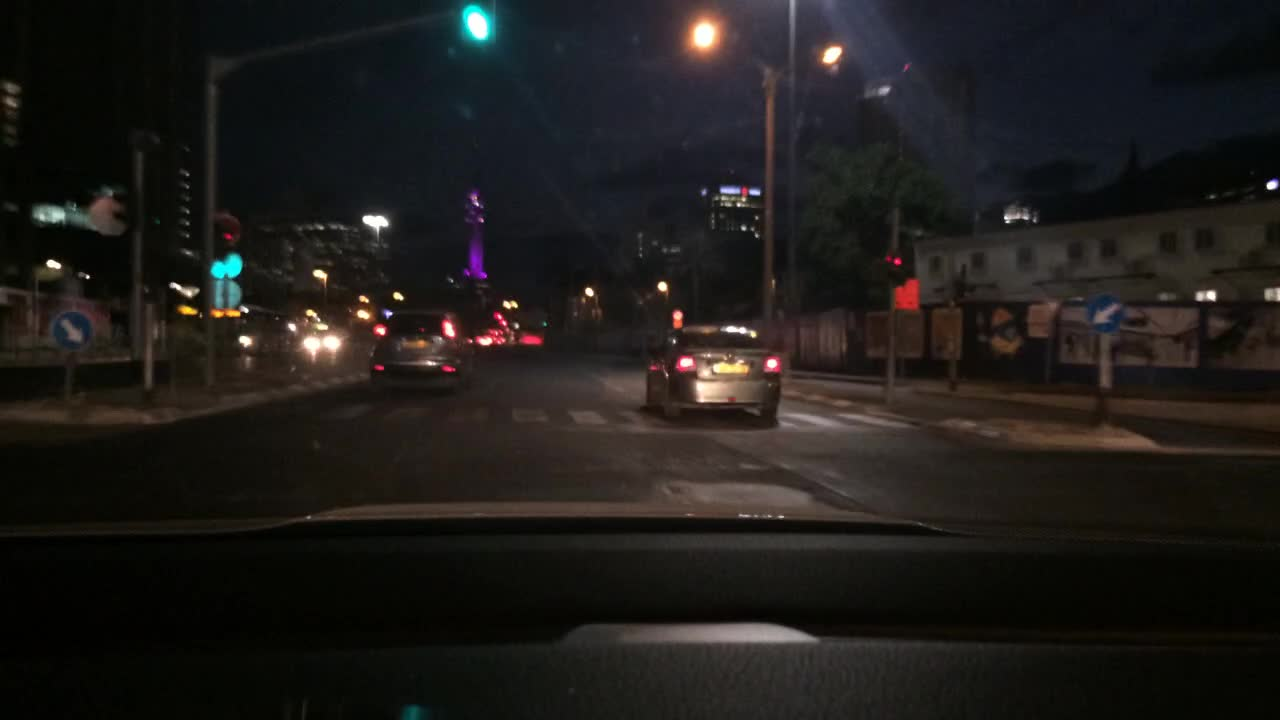car: (640, 320, 783, 425), (365, 302, 473, 394), (236, 309, 300, 354), (301, 326, 343, 355), (470, 331, 493, 348), (487, 330, 507, 346)
traffic light: (460, 8, 494, 39), (215, 251, 243, 276)
traffic sign: (1087, 291, 1126, 332), (52, 310, 92, 349), (896, 278, 920, 306)
